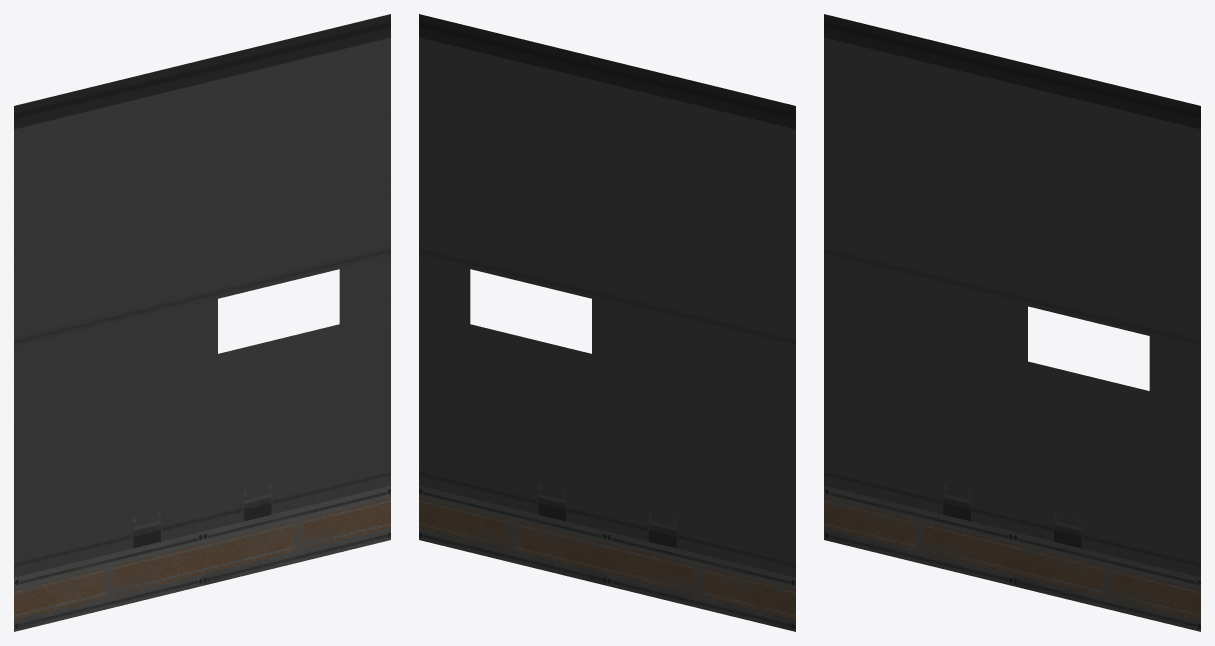
Rendered from WallVariation4.fbx.
The picture shows the model from 3 angles, left to right: view 1: azimuth 30°, elevation 25°; view 2: azimuth 150°, elevation 25°; view 3: azimuth 330°, elevation 25°; orthographic projection.
Parts seen in each view (by area): view 1: WallVariation7; view 2: WallVariation7; view 3: WallVariation7.
Boxes of the visible parts, left/top/right/bottom form: WallVariation7: left=14, top=14, right=390, bottom=631; WallVariation7: left=419, top=14, right=795, bottom=631; WallVariation7: left=824, top=14, right=1200, bottom=631.
Size of the model in its own units: 300 by 400 by 3.02e-05.
